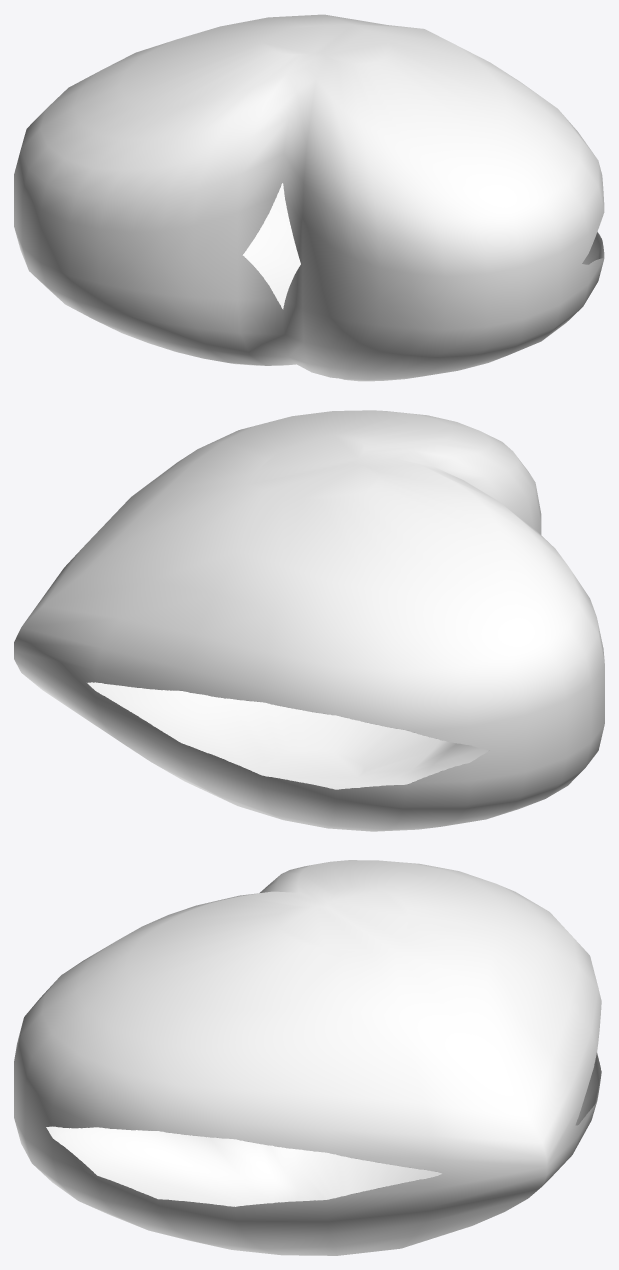
File: heart.fbx
3 renders of one model, top to bottom at view 1: azimuth 30°, elevation 25°; view 2: azimuth 150°, elevation 25°; view 3: azimuth 270°, elevation 25°, orthographic. The views are drawn at different scales.
Parts seen in each view (by area): view 1: heart; view 2: heart; view 3: heart.
Boxes of the visible parts, left/top/right/bottom form: heart: left=14, top=14, right=604, bottom=381; heart: left=14, top=410, right=604, bottom=831; heart: left=14, top=860, right=601, bottom=1255.
Bounding box in the file's own units: 0.1496 × 0.0887 × 0.1529.
